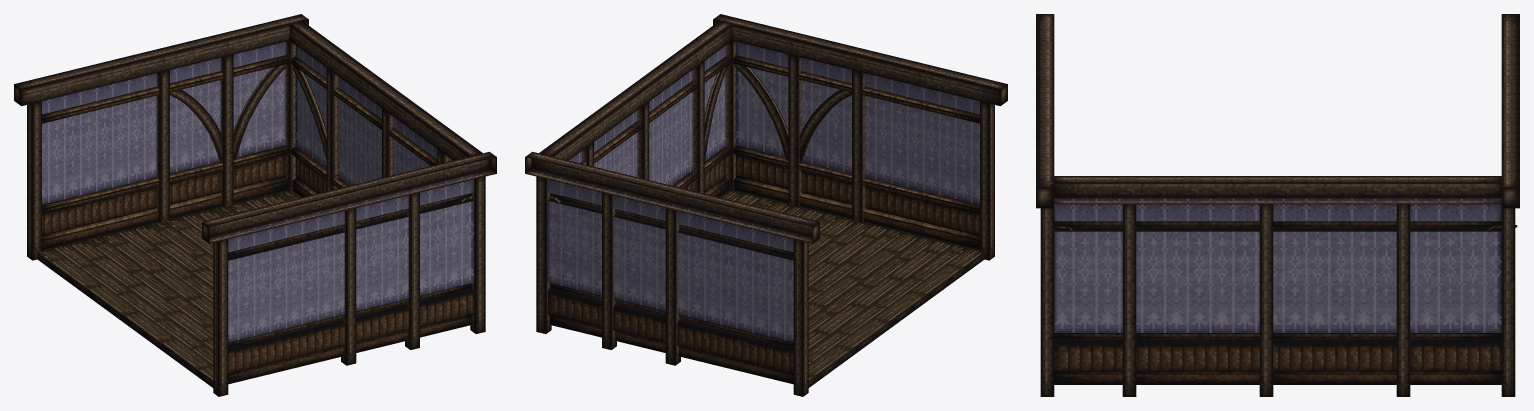
Rendered from EnvBdgMC_City_C_Indoor_Shop_Item.FBX.
The picture shows the model from 3 angles, left to right: view 1: azimuth 30°, elevation 25°; view 2: azimuth 150°, elevation 25°; view 3: azimuth 270°, elevation 25°; orthographic projection. The views are drawn at different scales.
Parts seen in each view (by area): view 1: EnvBdgMC_City_C_Indoor_Shop_Item; view 2: EnvBdgMC_City_C_Indoor_Shop_Item; view 3: EnvBdgMC_City_C_Indoor_Shop_Item.
Part boxes in pixels (<box>): EnvBdgMC_City_C_Indoor_Shop_Item: <box>14,14,496,396</box>; EnvBdgMC_City_C_Indoor_Shop_Item: <box>525,14,1007,396</box>; EnvBdgMC_City_C_Indoor_Shop_Item: <box>1036,14,1519,396</box>.
Bounding box in the file's own units: 900 × 520 × 1060.
